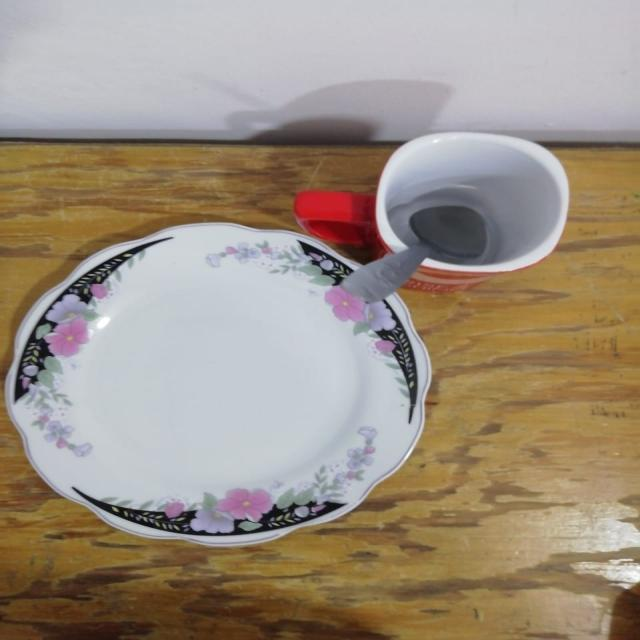non-organic waste: (28, 214, 454, 590)
